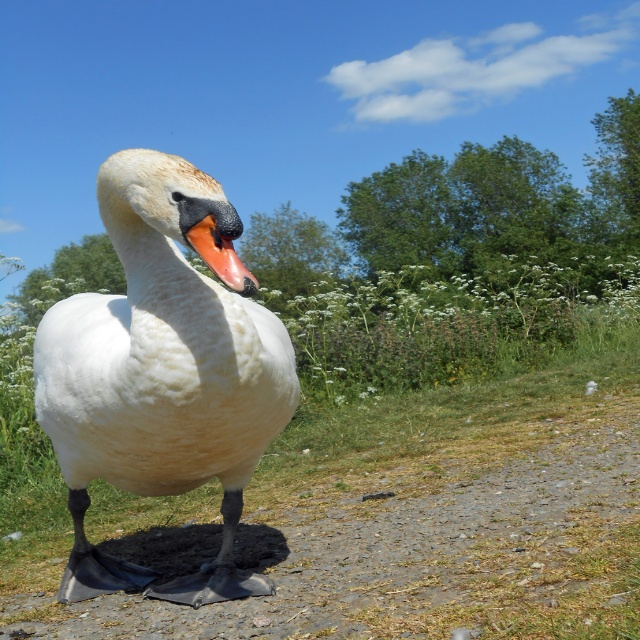Duck: (35, 142, 371, 624)
